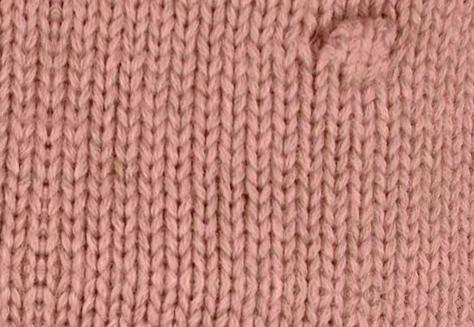knot: (313, 12, 406, 83)
